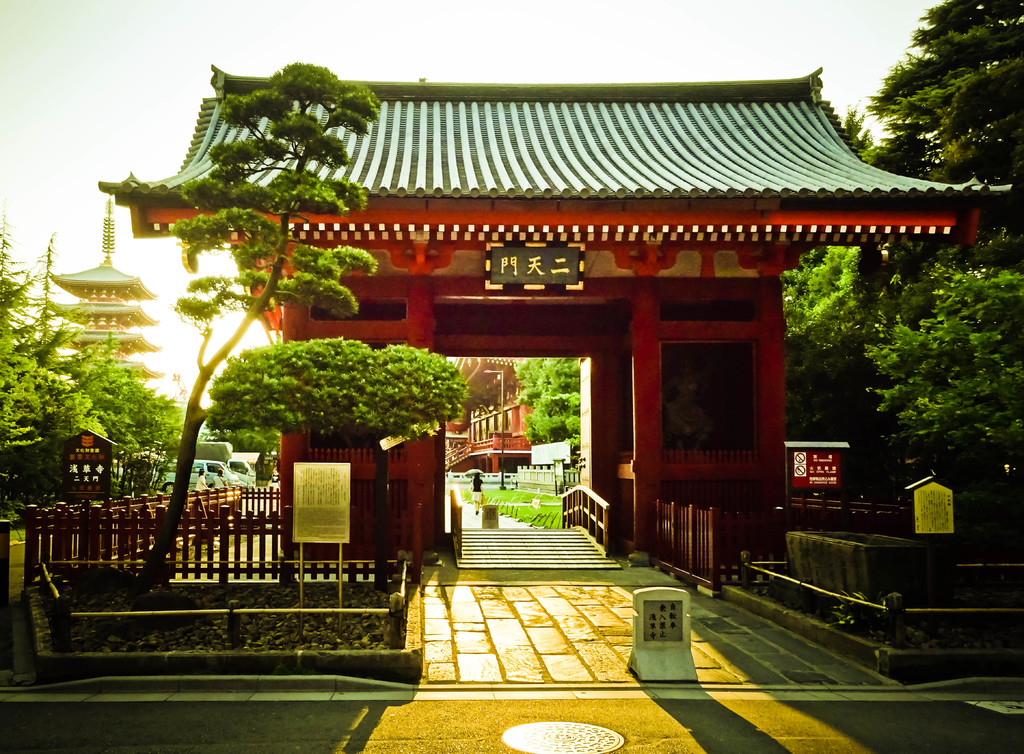Tree: (513, 0, 1024, 512), (130, 59, 380, 600), (0, 211, 185, 512)
